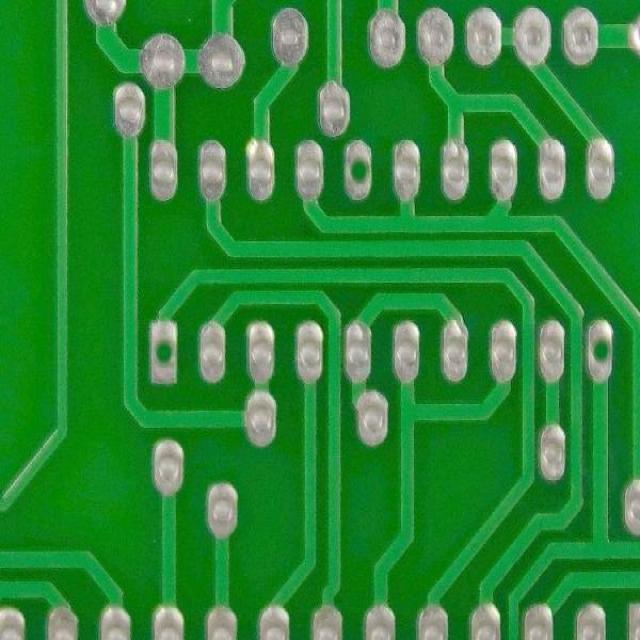missing hole: (142, 316, 183, 388), (337, 132, 376, 201), (580, 314, 617, 386)
